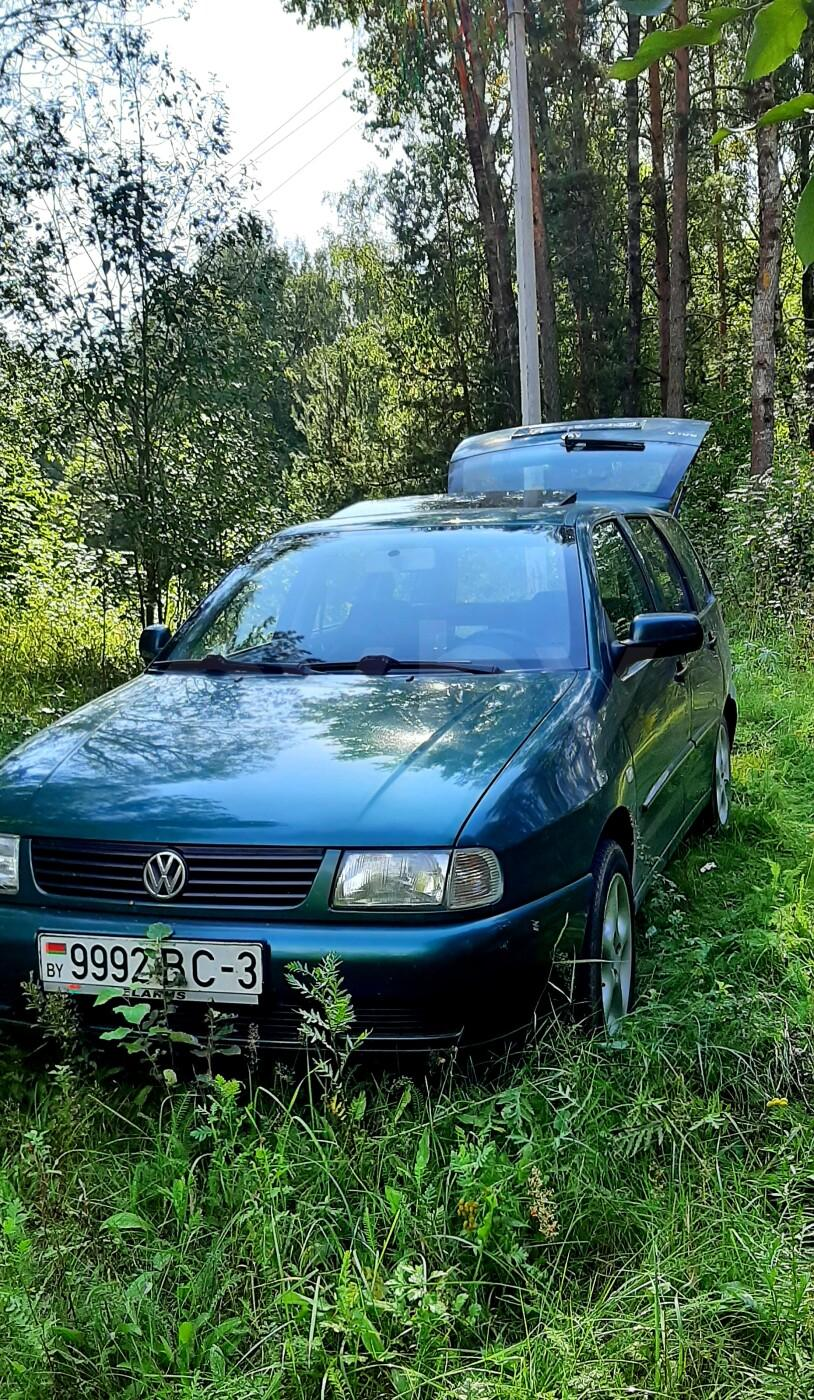Polo_1994-2002: (0, 407, 780, 1108)
